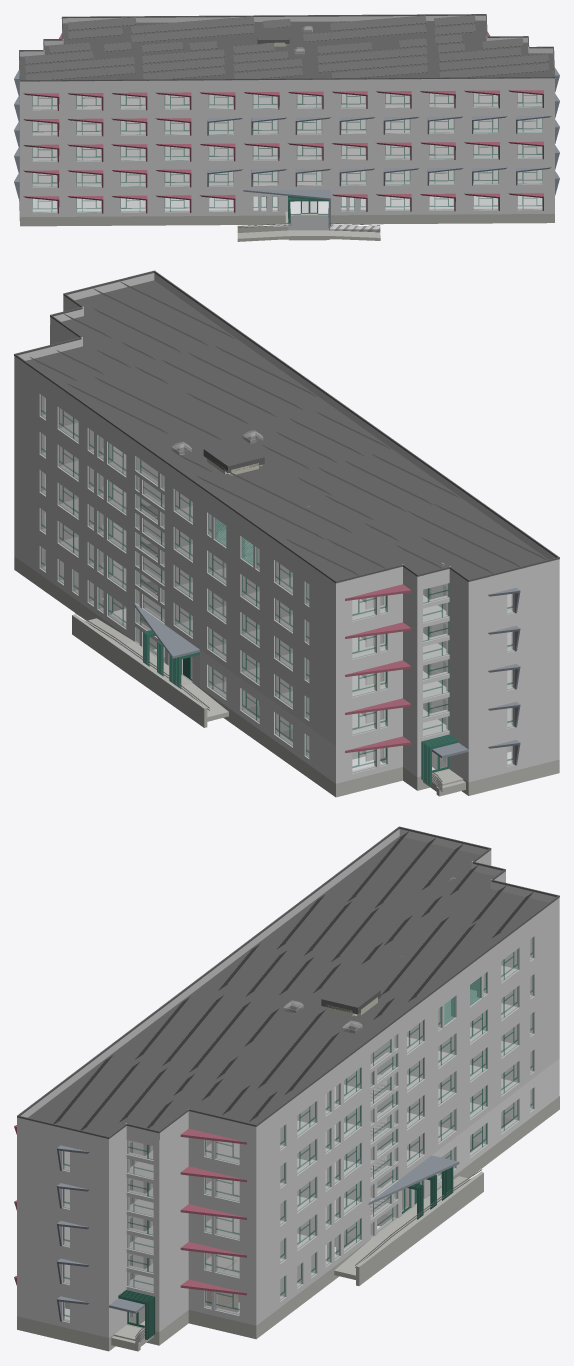
The picture shows the model from 3 angles, top to bottom: view 1: azimuth 30°, elevation 25°; view 2: azimuth 150°, elevation 25°; view 3: azimuth 270°, elevation 25°; orthographic projection. The views are drawn at different scales.
Visible parts, largest first — view 1: 0qFjruy0XgjnFGYcKqEPMJ, 27r23QDpLe8I2pqLaNxp1w, 0K7M2jfc6nST9Q7MXy9Irs, 3QXrJ1d6AAOnxto2fNNlxe, 3nhtKbNHxJqQLY52xChfjD, 2YeE_yZoMId99EkBLmj2kJ, 17Dk$t8KUTwywuE6O0fesL, 1t7cRInv0dTcqfhYXi1$mk, 0yAEwlU8wCSwlZbMFNDBMf, 3$tOkpj6DD13HluauyNzso, 1cbD6RpkDcG7VNo_82Vztk, 3_220jgTJdswzUyWvx5ABu (+39 smaller); view 2: 0qFjruy0XgjnFGYcKqEPMJ, 3fBLEebN0kN6xGCvJZZGb6, 3bqY_VkqBlU25u8uOJQMQQ, 28K0gksUlE7PxpbkwVNXNr, 0xrYtYnQsVr4BzOX$eOxFU, 0Vja0nqn1KTjNeTbPFOum5, 2SN7ZOEuyu80OJq5WtdGGv, 1T6K2ywQiP1w2D8k0ImLPW, 2Ytja_wQDZU$YmNzQnp67f, 0k_LF08e7LKXr9$qCaafZa, 3wmxIf7a3Zszu9lGX8msKS, 2b6DmlSWoIVe1nnpaek13q (+49 smaller); view 3: 0qFjruy0XgjnFGYcKqEPMJ, 3fBLEebN0kN6xGCvJZZGb6, 3bqY_VkqBlU25u8uOJQMQQ, 28K0gksUlE7PxpbkwVNXNr, 33PjOHhjTvfifVd$V4DPQT, 0IKJVDEANDGJG5UhF96u42, 2KB0XmJSGsvRoHXE7E2Xkt, 2ywOoY9LS0ey1pSVpiJDEk, 144RL9uNC9sLz8JS6S2fGq, 0k_LF08e7LKXr9$qCaafZa, 3wmxIf7a3Zszu9lGX8msKS, 2b6DmlSWoIVe1nnpaek13q (+56 smaller).
Boxes of the visible parts, left/top/right/bottom form: 0qFjruy0XgjnFGYcKqEPMJ: left=20, top=20, right=553, bottom=79; 27r23QDpLe8I2pqLaNxp1w: left=20, top=190, right=287, bottom=217; 0K7M2jfc6nST9Q7MXy9Irs: left=331, top=83, right=554, bottom=112; 3QXrJ1d6AAOnxto2fNNlxe: left=331, top=188, right=554, bottom=215; 3nhtKbNHxJqQLY52xChfjD: left=331, top=162, right=554, bottom=189; 2YeE_yZoMId99EkBLmj2kJ: left=32, top=93, right=542, bottom=108; 17Dk$t8KUTwywuE6O0fesL: left=32, top=144, right=542, bottom=159; 1t7cRInv0dTcqfhYXi1$mk: left=32, top=170, right=542, bottom=185; 0yAEwlU8wCSwlZbMFNDBMf: left=32, top=118, right=542, bottom=133; 3$tOkpj6DD13HluauyNzso: left=20, top=85, right=199, bottom=114; 1cbD6RpkDcG7VNo_82Vztk: left=20, top=164, right=199, bottom=191; 3_220jgTJdswzUyWvx5ABu: left=20, top=113, right=199, bottom=139; 0qFjruy0XgjnFGYcKqEPMJ: left=26, top=280, right=548, bottom=580; 3fBLEebN0kN6xGCvJZZGb6: left=166, top=471, right=335, bottom=630; 3bqY_VkqBlU25u8uOJQMQQ: left=166, top=588, right=335, bottom=745; 28K0gksUlE7PxpbkwVNXNr: left=200, top=650, right=335, bottom=783; 0xrYtYnQsVr4BzOX$eOxFU: left=468, top=566, right=559, bottom=630; 0Vja0nqn1KTjNeTbPFOum5: left=468, top=683, right=559, bottom=744; 2SN7ZOEuyu80OJq5WtdGGv: left=468, top=645, right=559, bottom=706; 1T6K2ywQiP1w2D8k0ImLPW: left=468, top=607, right=559, bottom=667; 2Ytja_wQDZU$YmNzQnp67f: left=468, top=721, right=559, bottom=782; 0k_LF08e7LKXr9$qCaafZa: left=72, top=614, right=207, bottom=727; 3wmxIf7a3Zszu9lGX8msKS: left=14, top=556, right=335, bottom=797; 2b6DmlSWoIVe1nnpaek13q: left=14, top=518, right=83, bottom=604; 0qFjruy0XgjnFGYcKqEPMJ: left=28, top=836, right=548, bottom=1136; 3fBLEebN0kN6xGCvJZZGb6: left=400, top=905, right=559, bottom=1065; 3bqY_VkqBlU25u8uOJQMQQ: left=400, top=1021, right=559, bottom=1178; 28K0gksUlE7PxpbkwVNXNr: left=432, top=1059, right=559, bottom=1188; 33PjOHhjTvfifVd$V4DPQT: left=17, top=1125, right=109, bottom=1186; 0IKJVDEANDGJG5UhF96u42: left=17, top=1241, right=108, bottom=1299; 2KB0XmJSGsvRoHXE7E2Xkt: left=17, top=1203, right=108, bottom=1262; 2ywOoY9LS0ey1pSVpiJDEk: left=17, top=1165, right=108, bottom=1224; 144RL9uNC9sLz8JS6S2fGq: left=17, top=1278, right=108, bottom=1337; 0k_LF08e7LKXr9$qCaafZa: left=356, top=1172, right=483, bottom=1285; 3wmxIf7a3Zszu9lGX8msKS: left=256, top=1096, right=559, bottom=1338; 2b6DmlSWoIVe1nnpaek13q: left=256, top=1239, right=321, bottom=1325.
Bounding box in the file's own units: 60.47 × 19.74 × 43.95.
